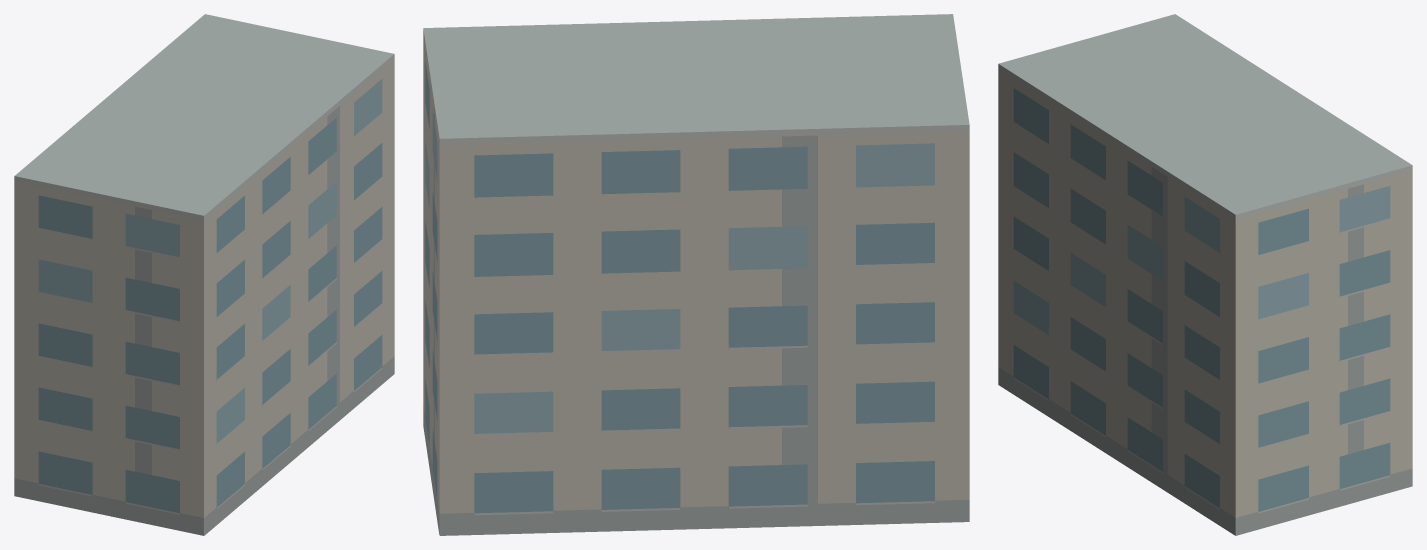
File: residential-191beac8-c241-4ef4-a3d8-049627e9f636.glb
3 renders of one model, left to right at view 1: azimuth 30°, elevation 25°; view 2: azimuth 150°, elevation 25°; view 3: azimuth 270°, elevation 25°, orthographic. The views are drawn at different scales.
Visible parts, largest first — view 1: residential-191beac8-c241-4ef4-a3d8-049627e9f636.tmp; view 2: residential-191beac8-c241-4ef4-a3d8-049627e9f636.tmp; view 3: residential-191beac8-c241-4ef4-a3d8-049627e9f636.tmp.
Part boxes in pixels (x1,y1,x2,y2): residential-191beac8-c241-4ef4-a3d8-049627e9f636.tmp: [14, 14, 394, 535]; residential-191beac8-c241-4ef4-a3d8-049627e9f636.tmp: [423, 14, 969, 535]; residential-191beac8-c241-4ef4-a3d8-049627e9f636.tmp: [998, 14, 1412, 535].
Bounding box in the file's own units: 19.59 × 14.6 × 17.09.
